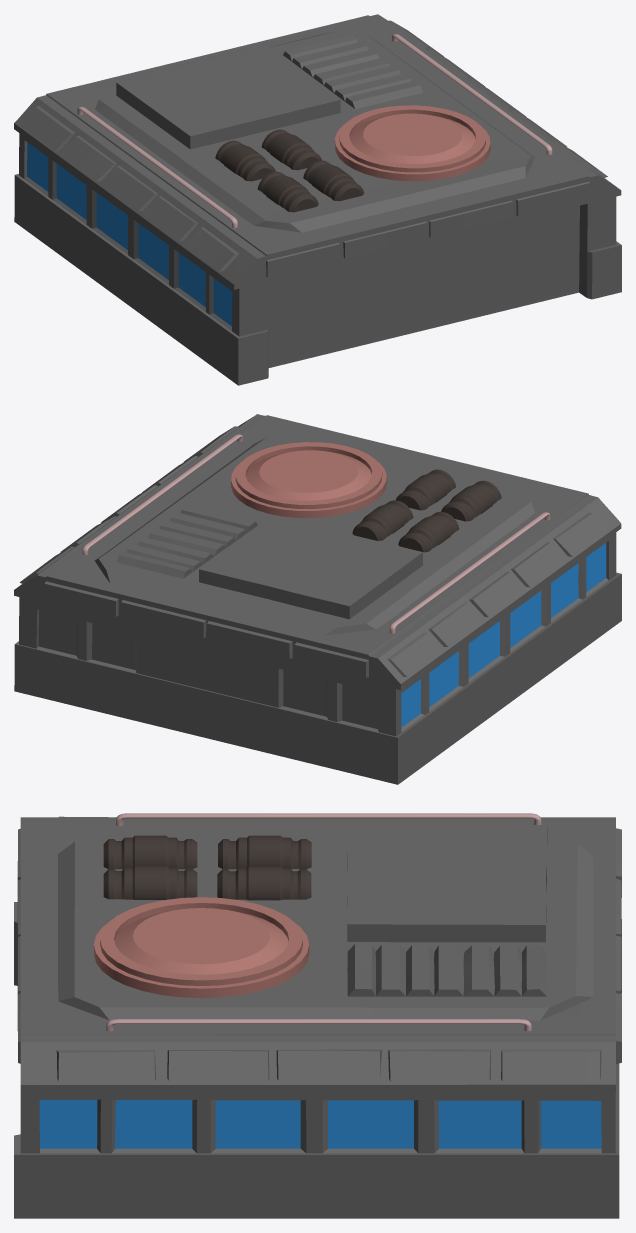
The picture shows the model from 3 angles, top to bottom: view 1: azimuth 30°, elevation 25°; view 2: azimuth 150°, elevation 25°; view 3: azimuth 270°, elevation 25°; orthographic projection. The views are drawn at different scales.
Parts seen in each view (by area): view 1: Plane, Cylinder.001, window, roof handtag.001; view 2: Plane, Cylinder.001, window, roof handtag.001; view 3: Plane, window, Cylinder.001, roof handtag.001.
Part boxes in pixels (left/top/right/bottom): Plane: left=14, top=14, right=621, bottom=385; Cylinder.001: left=215, top=129, right=364, bottom=212; window: left=27, top=142, right=232, bottom=326; roof handtag.001: left=77, top=34, right=552, bottom=228; Plane: left=14, top=414, right=621, bottom=784; Cylinder.001: left=352, top=469, right=501, bottom=552; window: left=401, top=543, right=606, bottom=727; roof handtag.001: left=82, top=434, right=550, bottom=633; Plane: left=14, top=816, right=621, bottom=1218; window: left=39, top=1099, right=601, bottom=1148; Cylinder.001: left=103, top=835, right=311, bottom=900; roof handtag.001: left=106, top=813, right=541, bottom=1031.
Size of the model in its own units: 5500 by 1933 by 5500.
